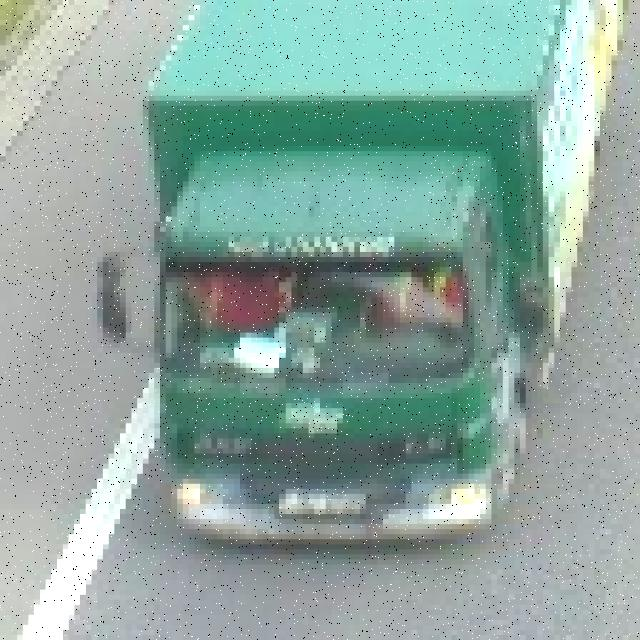truck: (103, 0, 623, 554)
